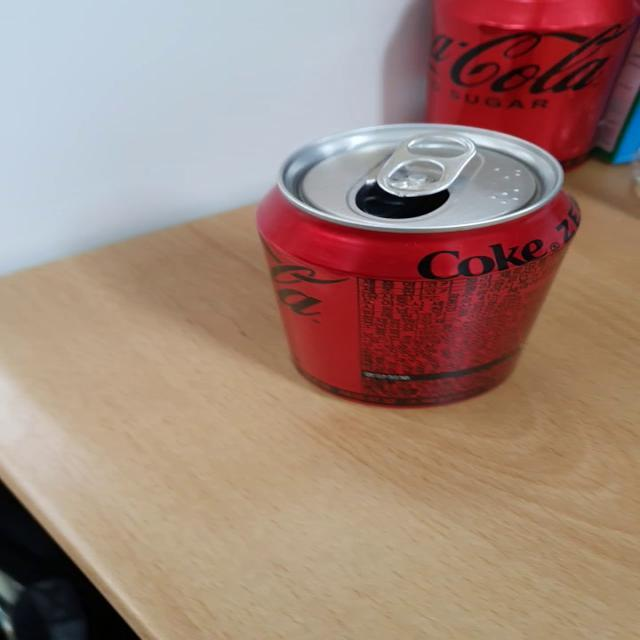coca-cola: (235, 111, 592, 416), (408, 1, 640, 180)
